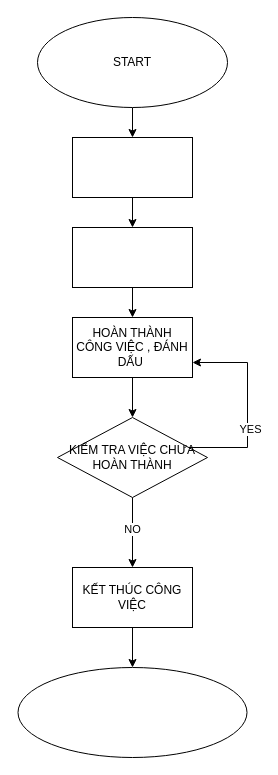
The diagram is 278 pixels wide and 775 high, and some of its shapes have lost their labels. Each missing label, with the centre of its shape:
"CHỌN CÔNG VIỆC" belongs at (132,257).
"LIỆT KÊ CÔNG VC" belongs at (132,167).
